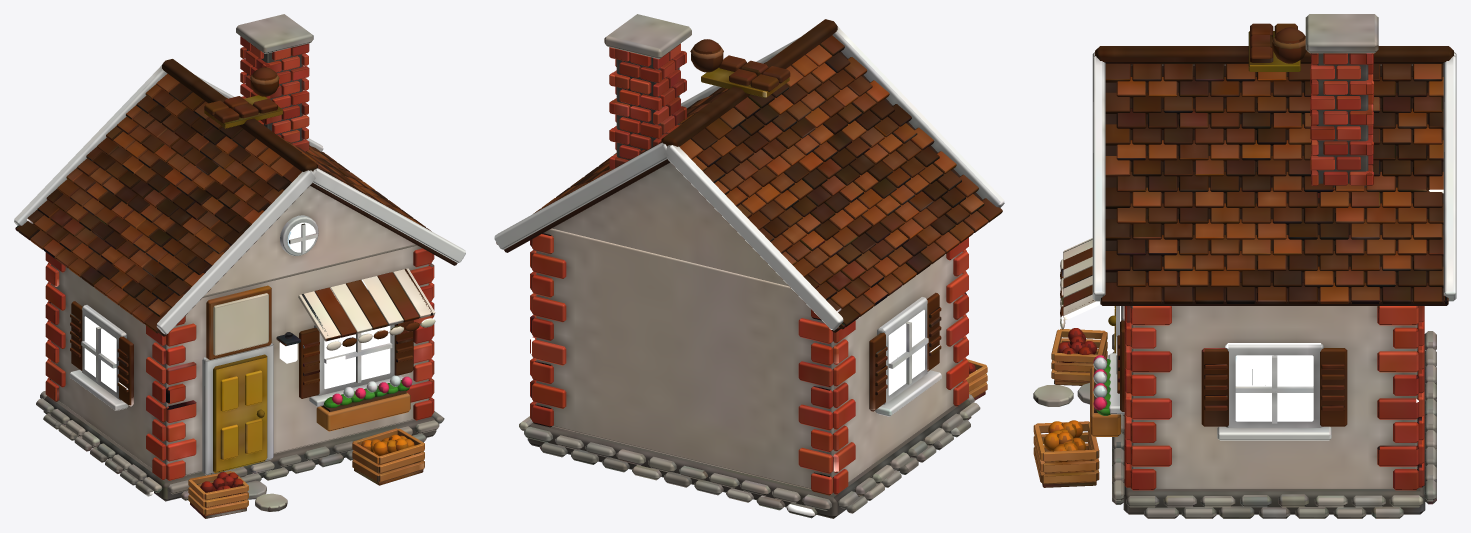
File: chocolatier.glb
3 views of the same model, side by side, from view 1: azimuth 30°, elevation 25°; view 2: azimuth 150°, elevation 25°; view 3: azimuth 270°, elevation 25° (orthographic). The views are drawn at different scales.
Parts seen in each view (by area): view 1: chocolatier; view 2: chocolatier; view 3: chocolatier.
Part boxes in pixels (bbox=[...]): chocolatier: bbox=[14, 14, 465, 518]; chocolatier: bbox=[494, 14, 1004, 518]; chocolatier: bbox=[1033, 14, 1456, 518].
Bounding box in the file's own units: 1.69 × 1.89 × 1.63.
1 material, 1 textured.
